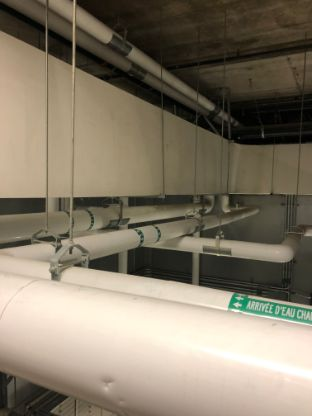Duct: (1, 30, 312, 199)
